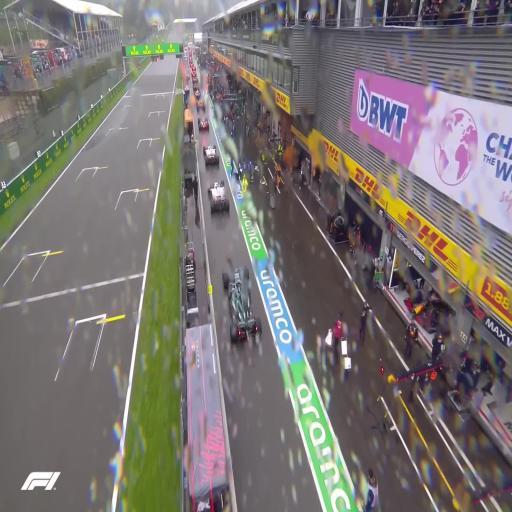f1_car: (222, 268, 261, 342), (208, 181, 229, 212), (203, 146, 219, 165), (193, 89, 205, 101), (198, 118, 209, 130), (191, 82, 201, 94), (196, 100, 205, 111), (191, 70, 197, 78), (189, 60, 195, 68), (188, 55, 194, 63), (191, 65, 196, 72), (188, 47, 193, 54), (188, 52, 193, 58)
